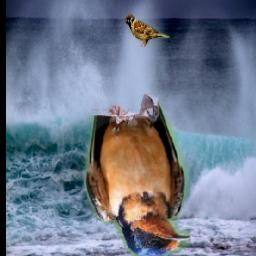Sparrow: (124, 13, 171, 48)
Swallow: (85, 95, 192, 256)
